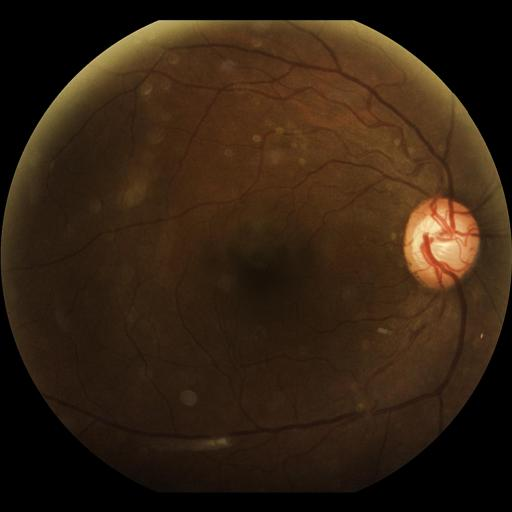Optic Cup: (412, 213, 466, 269)
Optic Disc: (403, 197, 480, 289)
